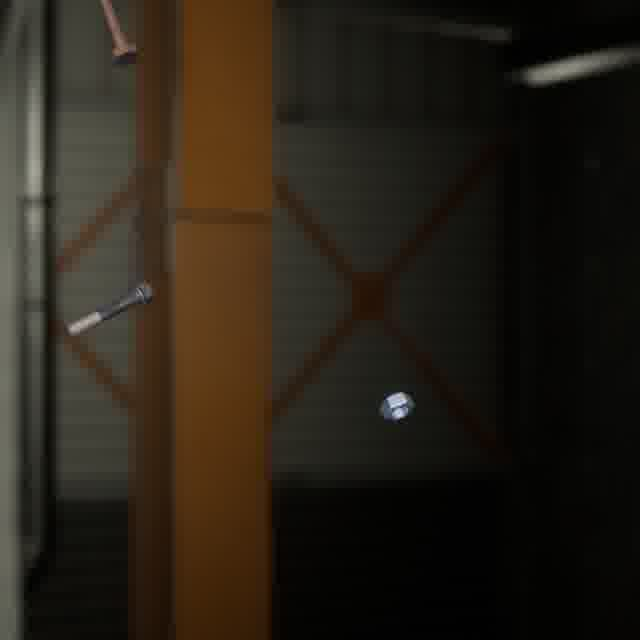bolt: (59, 274, 158, 343), (91, 0, 142, 71)
nut: (375, 387, 419, 426)
